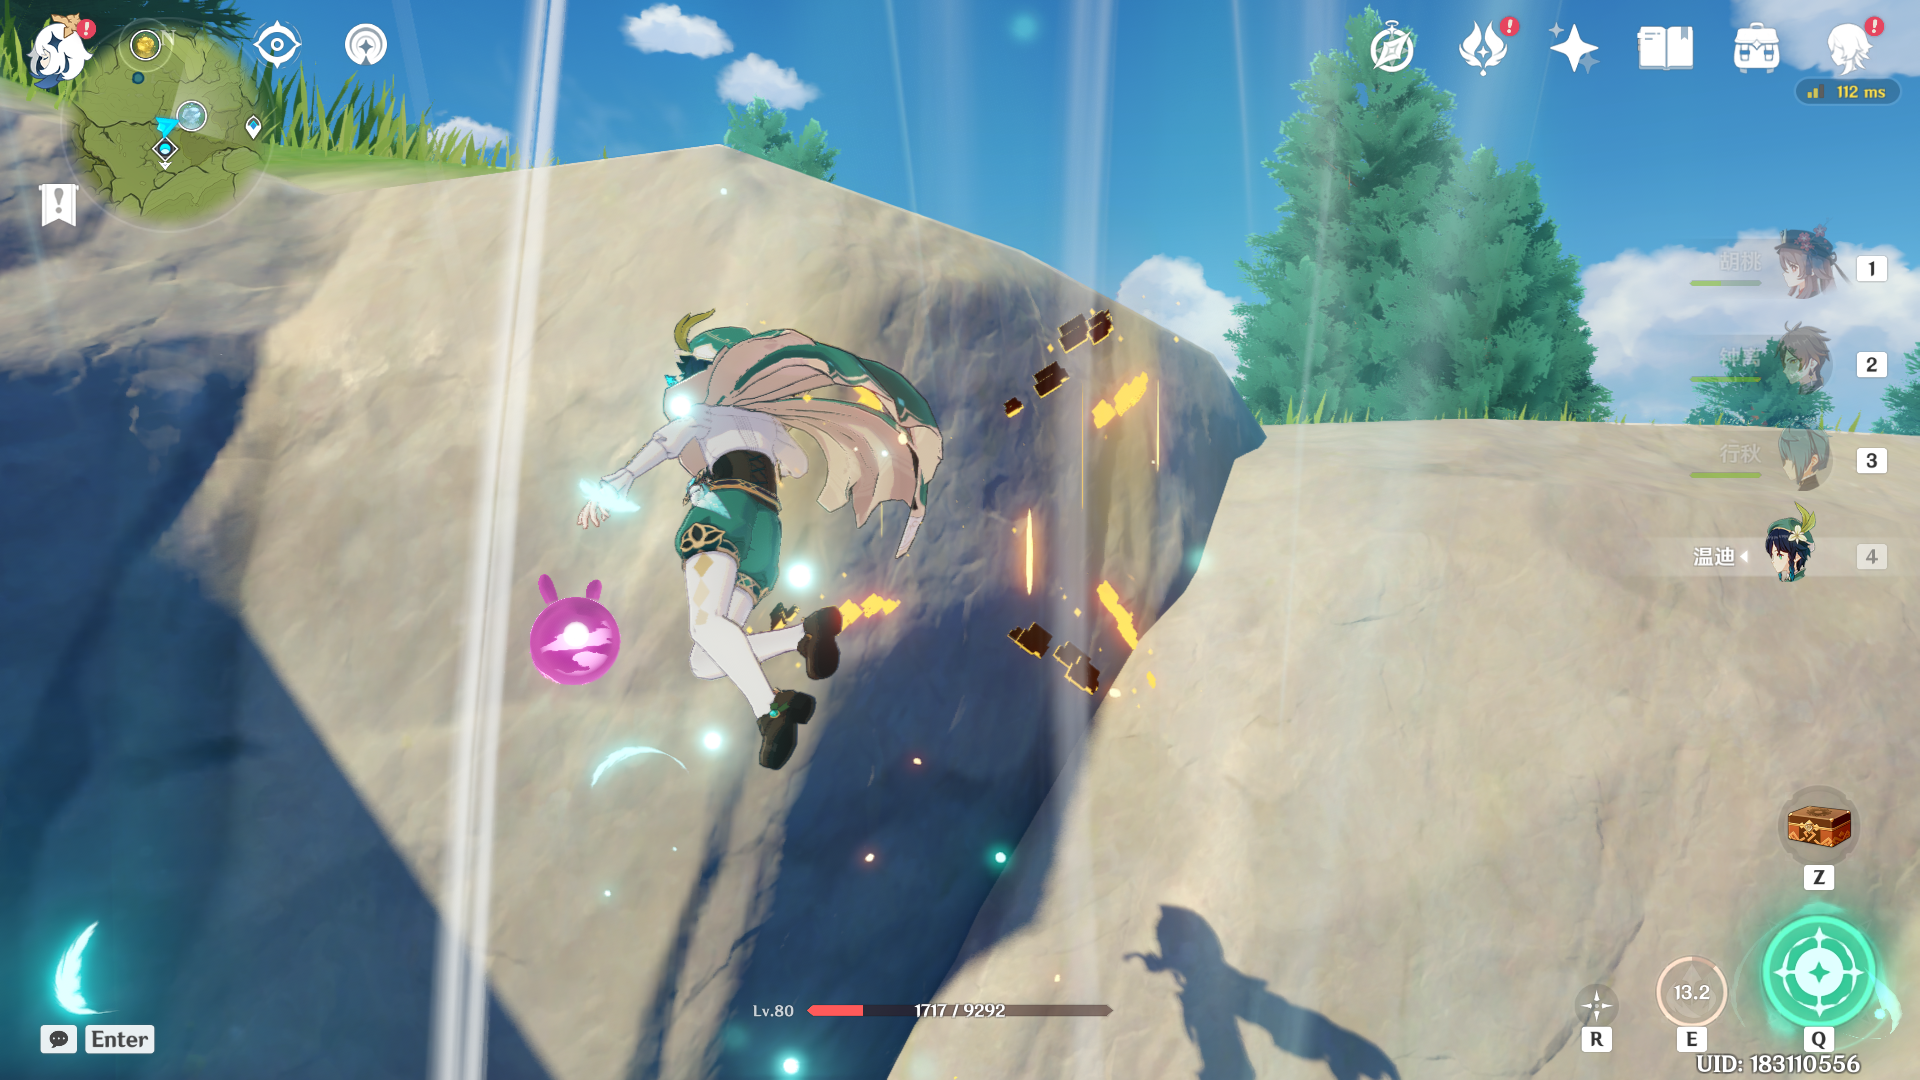character: (553, 305, 949, 799)
